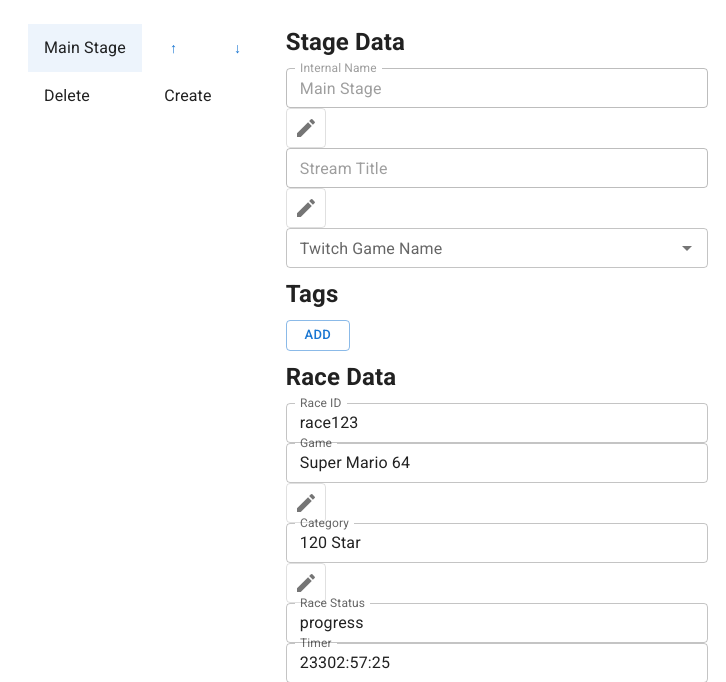
Test case: race text frame › reflects a game override made in the editor
Click the button named "Edit Game" at (306, 503), box [286,483,326,523]
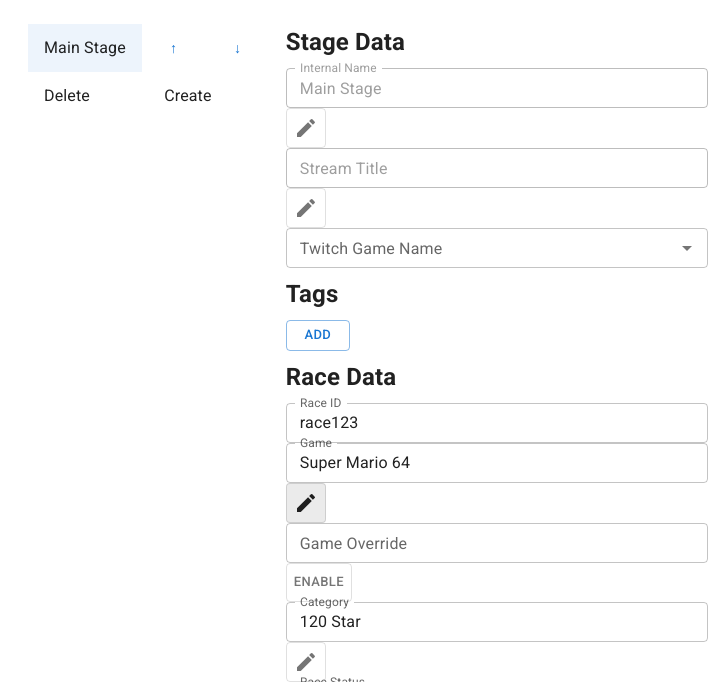
Type "Custom Game" into the field labelled "Game Override" at (497, 543), box [286,523,708,563]
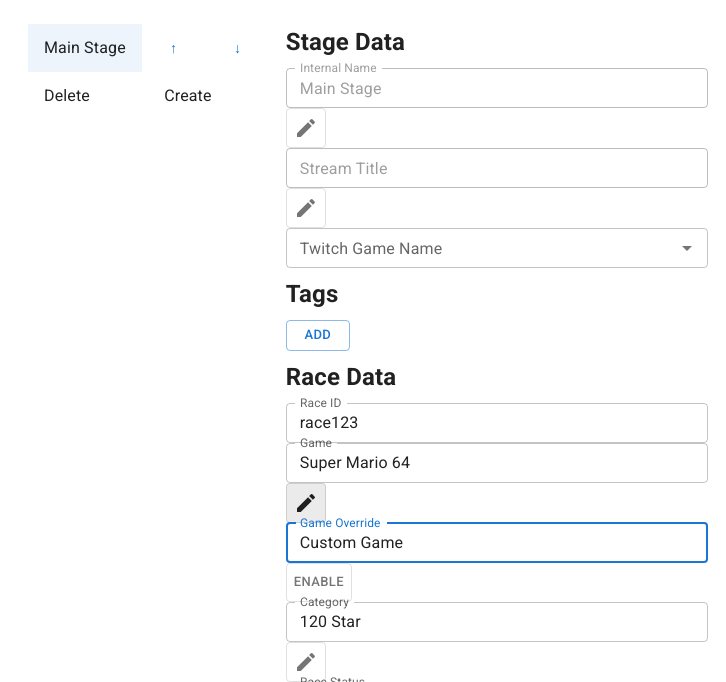
Click the button "Enable" at (319, 582), box [286,563,352,602]
(page scrolled)
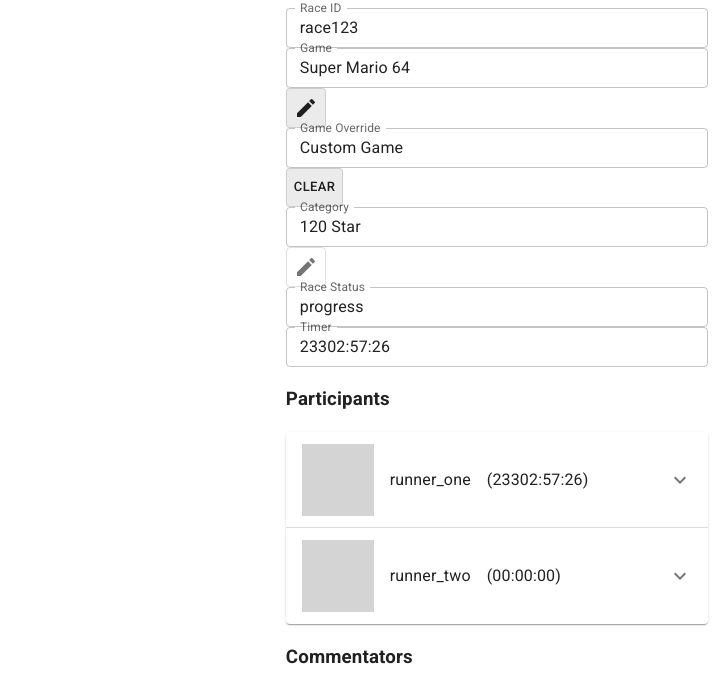
Expected: the text "Custom Game" is shown, [12,332,319,389]
